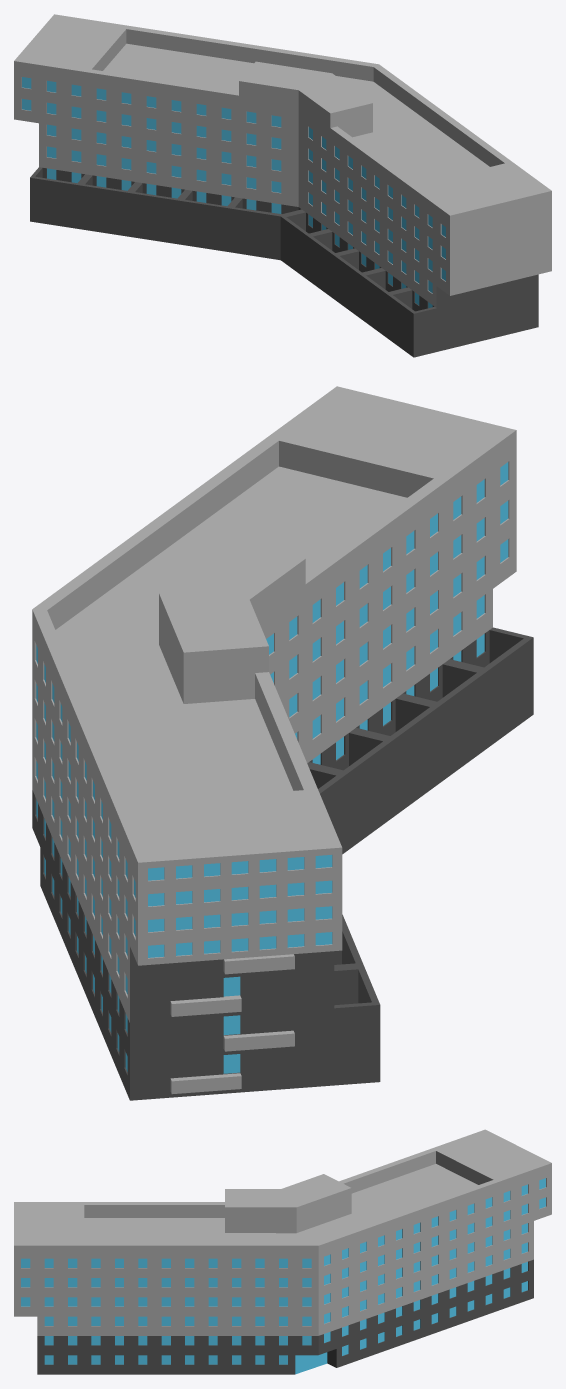
File: BitSolA.glb
3 renders of one model, top to bottom at view 1: azimuth 30°, elevation 25°; view 2: azimuth 150°, elevation 25°; view 3: azimuth 270°, elevation 25°, orthographic. The views are drawn at different scales.
Visible parts, largest first — view 1: Main, Dark, Window; view 2: Main, Dark, Window; view 3: Main, Dark, Window.
Boxes of the visible parts, box(x1,y1,x2,y2) form: Main: box(14, 14, 551, 307); Dark: box(30, 167, 538, 357); Window: box(22, 77, 445, 308); Main: box(32, 386, 516, 1094); Dark: box(32, 627, 533, 1100); Window: box(36, 462, 508, 1073); Main: box(14, 1129, 551, 1335); Dark: box(37, 1259, 533, 1374); Window: box(21, 1178, 545, 1374).
Bounding box in the file's own units: 39.17 × 22 × 75.76.
